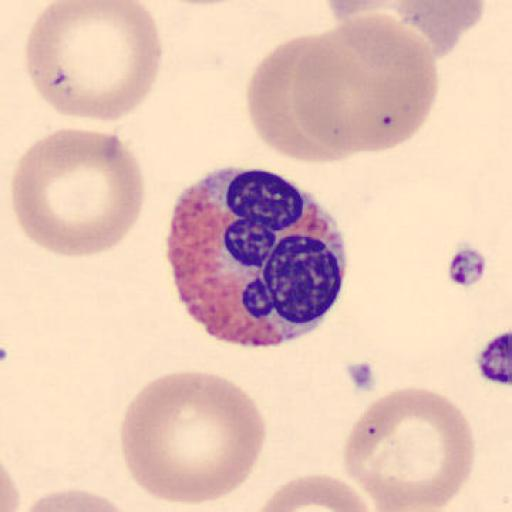RBC: (118, 368, 267, 505), (301, 14, 439, 157), (9, 125, 147, 261), (24, 1, 164, 123), (342, 385, 476, 512), (246, 30, 364, 164), (322, 0, 486, 61), (249, 472, 376, 512), (13, 486, 137, 512), (0, 455, 21, 512)
WBC: (165, 164, 348, 348)
